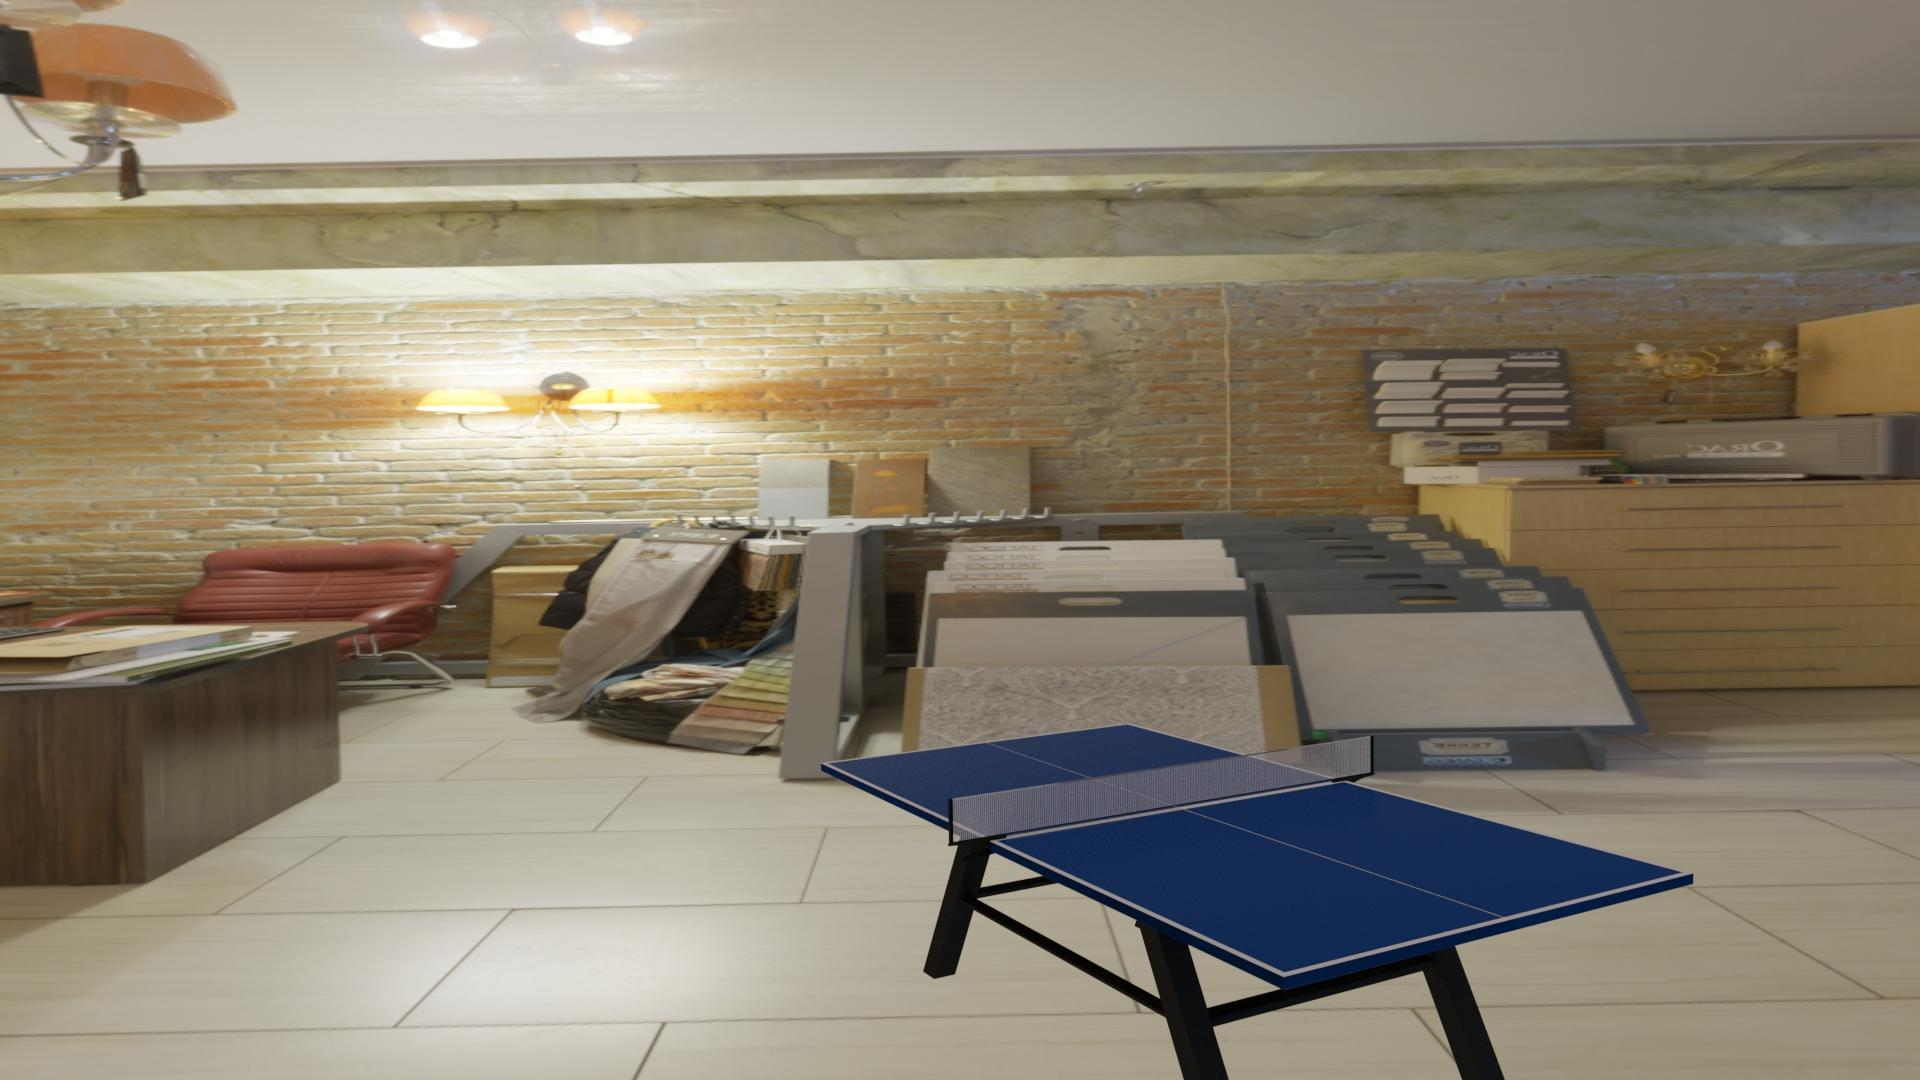table: (827, 724, 1684, 973)
